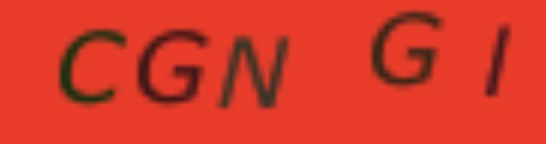C: (54, 24, 134, 108)
G: (362, 6, 445, 90), (133, 24, 215, 105)
I: (478, 19, 516, 105)
N: (210, 31, 295, 116)
